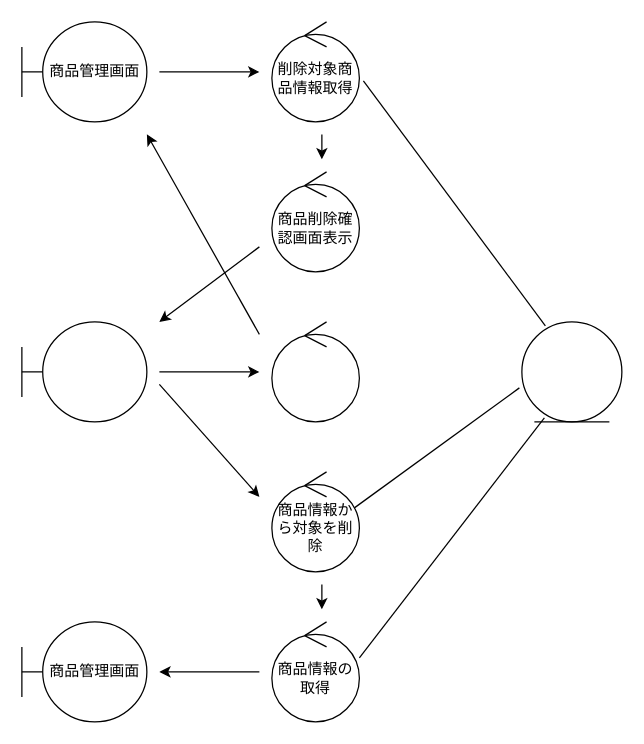
Some shapes in this 644 by 744 pixel diagram are drawn without their labels. The shapes that lost their labels are listed below. From the top down, each one's centre as x and y in pixels, then its label:
At (84,371): "商品削除確認画面".
At (315,371): "キャンセル".
At (571,371): "商品情報".
